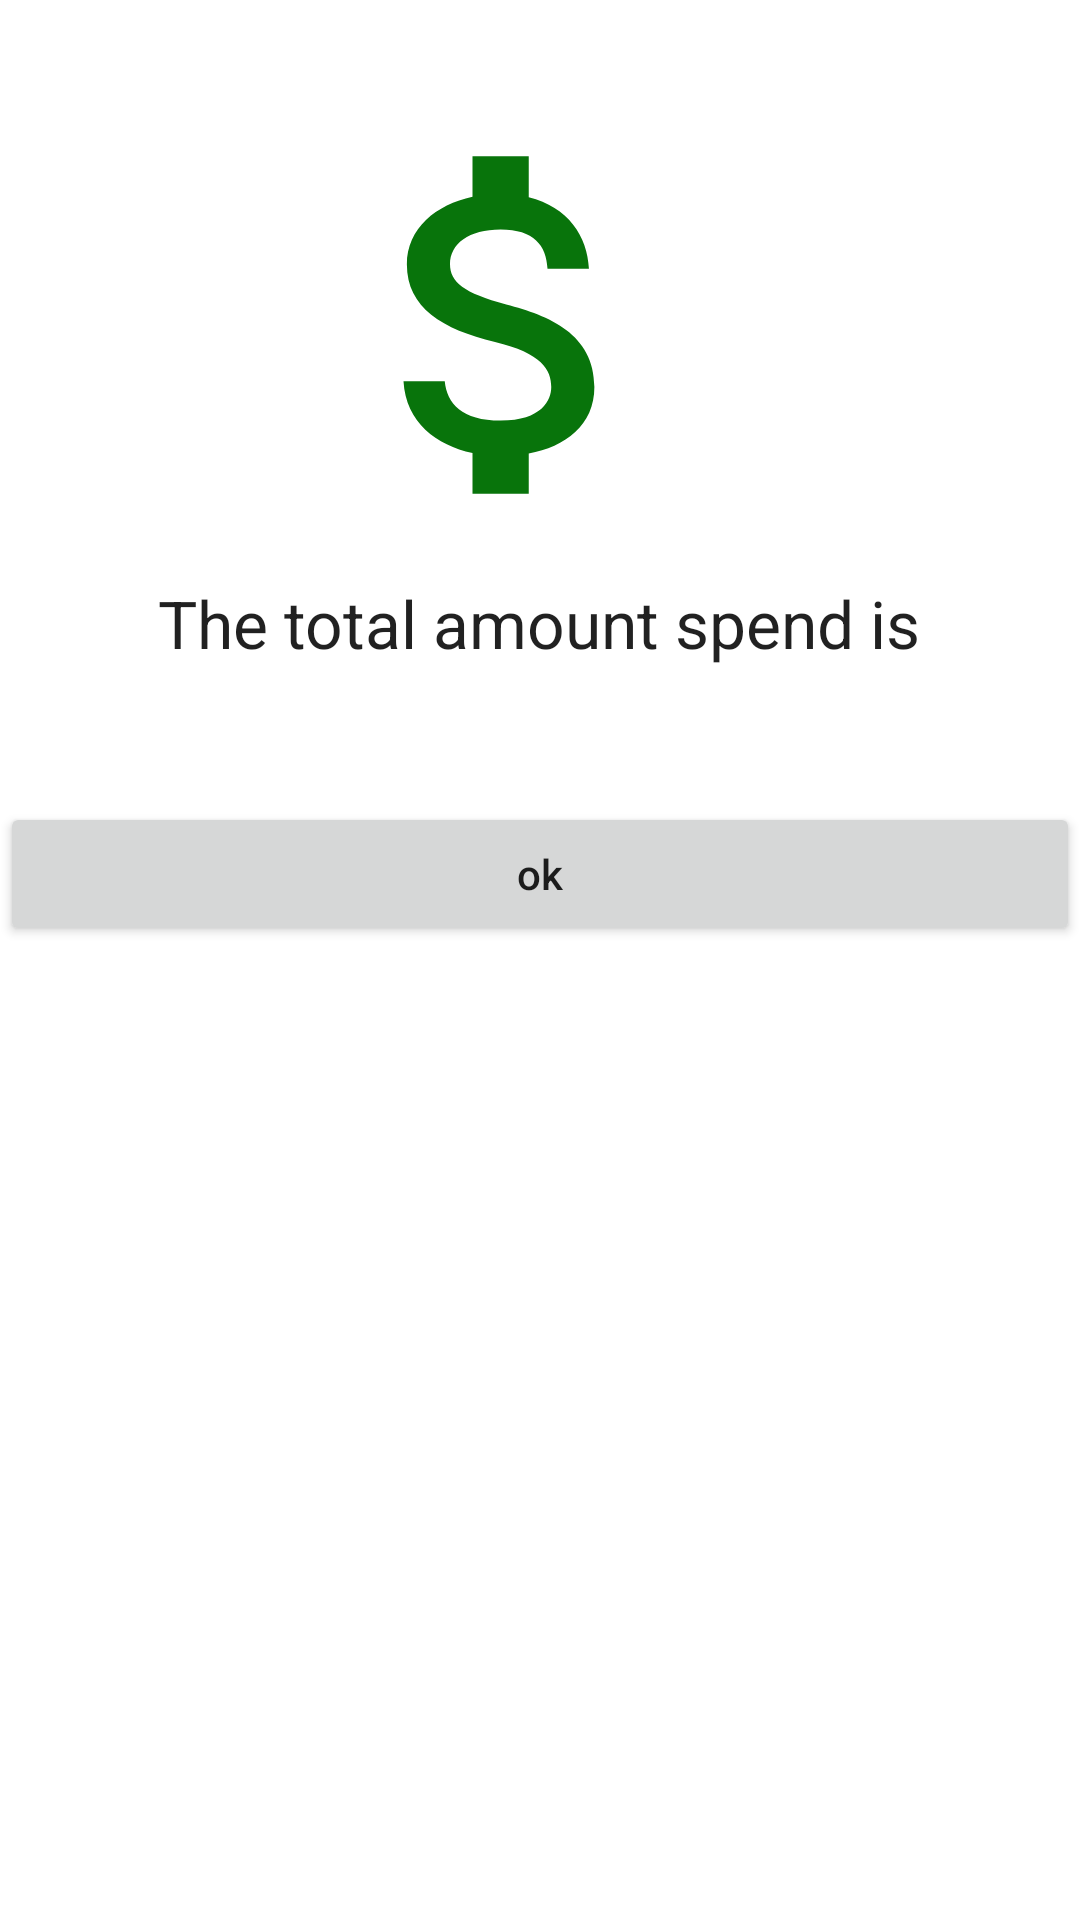

Locate icon controls on the screen. Image size 1080w x 1920h, boxes as (left=x1, top=y1, right=x2, bottom=y2).
attach money: (left=403, top=156, right=595, bottom=494)
